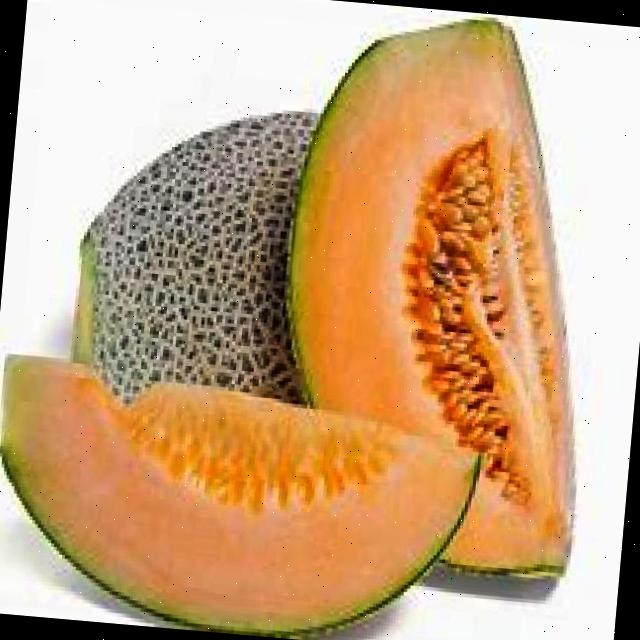Hami Melon: (265, 0, 619, 585), (0, 348, 485, 640)
